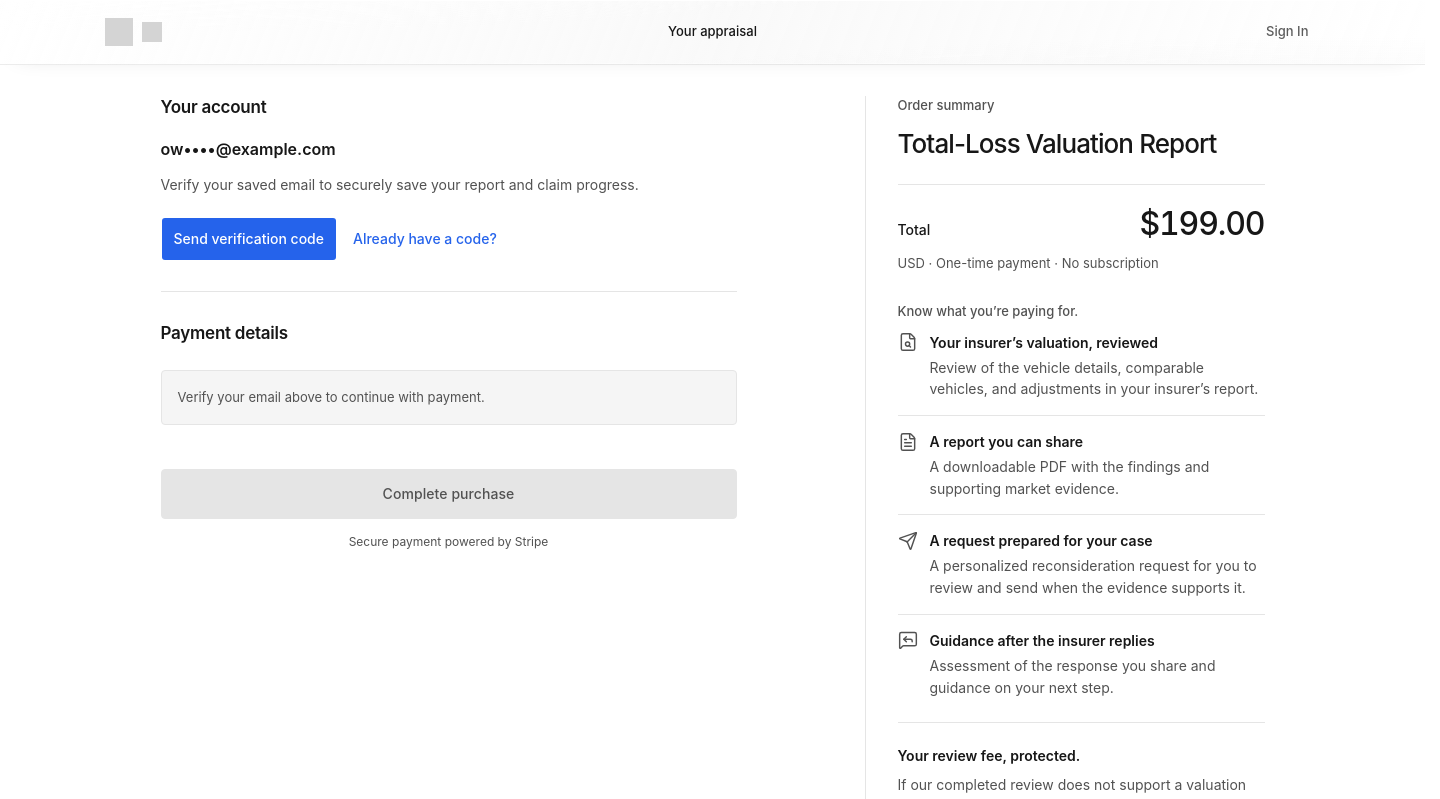
Test case: local purchase email verification › requests a code only for the saved email using the existing bodyless case claim
Check: the text "ow••••@example.com" is shown, box [160,139,336,159]
Check: the button "Complete purchase" is disabled, box [160,469,736,519]
Click the button "Send verification code" at (249, 239), box [160,217,337,261]
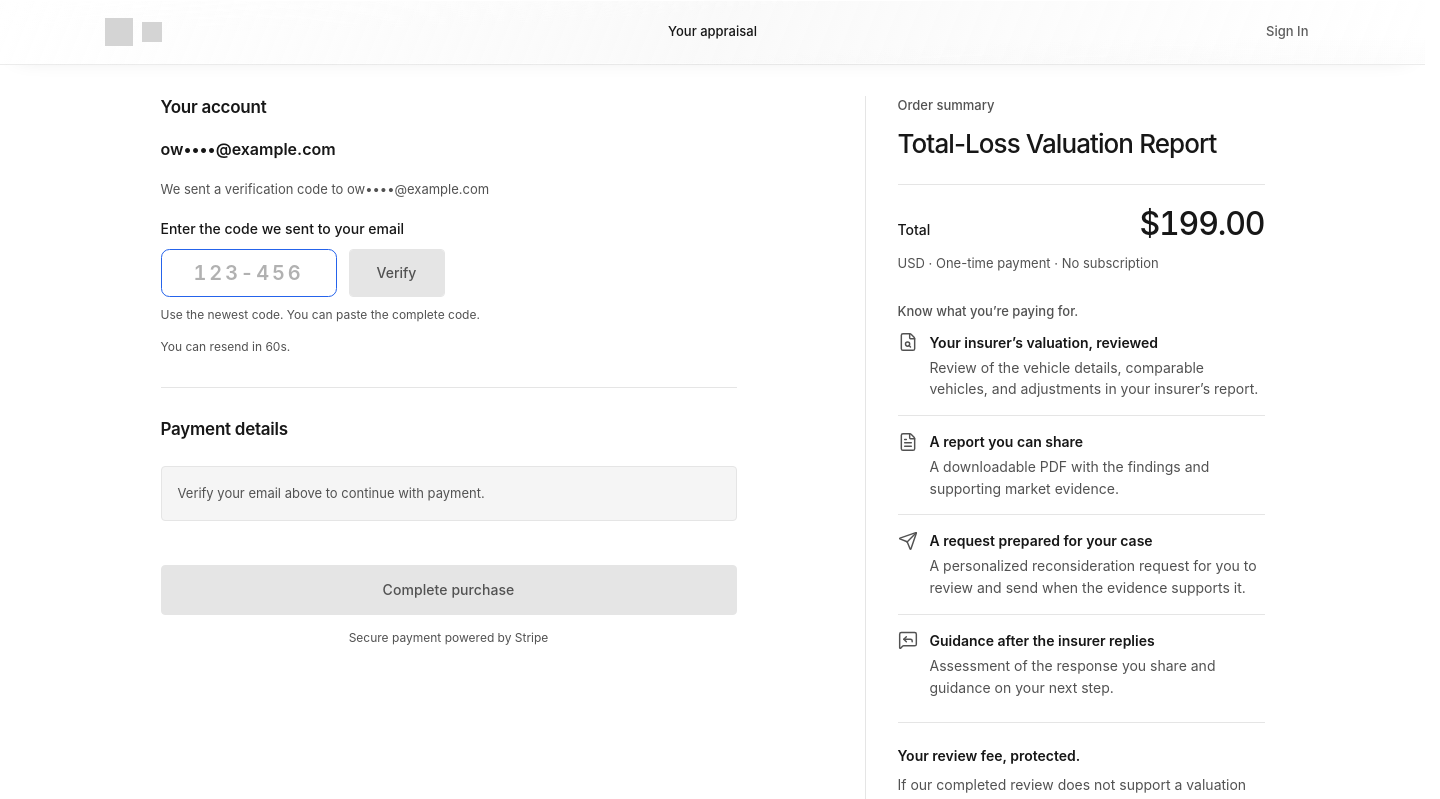
Check: the text "We sent a verification code to ow••••@example.com" is shown, box [160,181,489,197]
